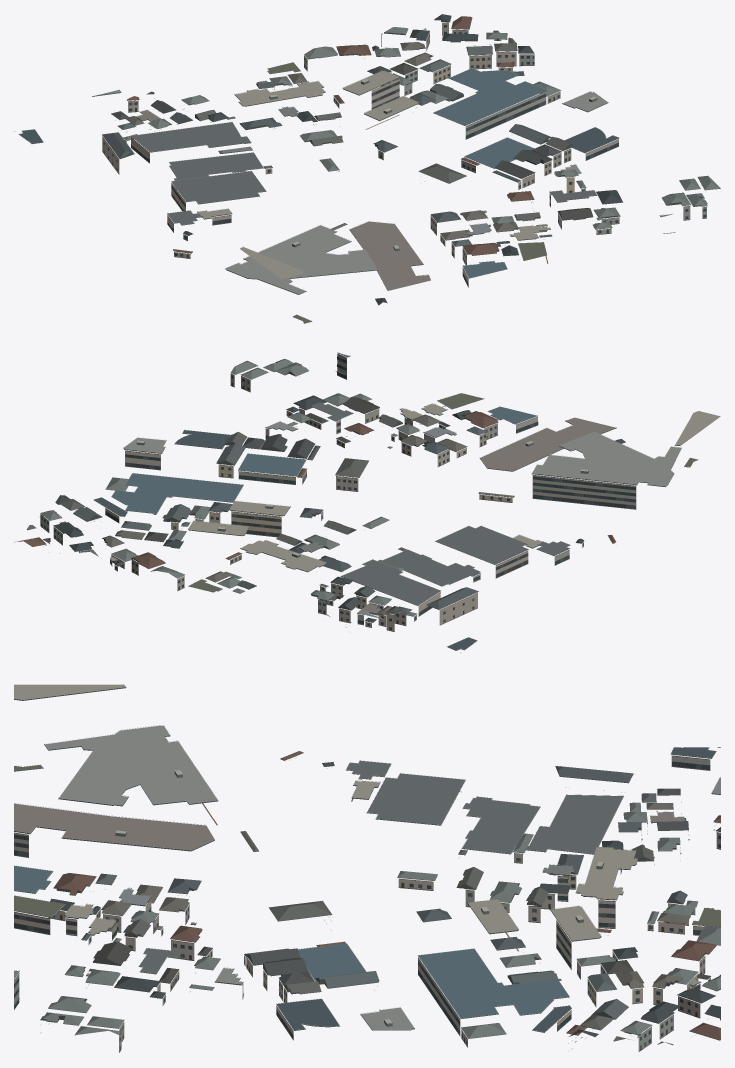
The picture shows the model from 3 angles, top to bottom: view 1: azimuth 30°, elevation 25°; view 2: azimuth 150°, elevation 25°; view 3: azimuth 270°, elevation 25°; orthographic projection. The views are drawn at different scales.
Parts seen in each view (by area): view 1: r1-c5; view 2: r1-c5; view 3: r1-c5.
Part boxes in pixels (x1,y1,x2,y2): r1-c5: (14,14,720,323); r1-c5: (14,352,720,653); r1-c5: (14,684,720,1052).
Size of the model in its own units: 250 by 29.66 by 250.
